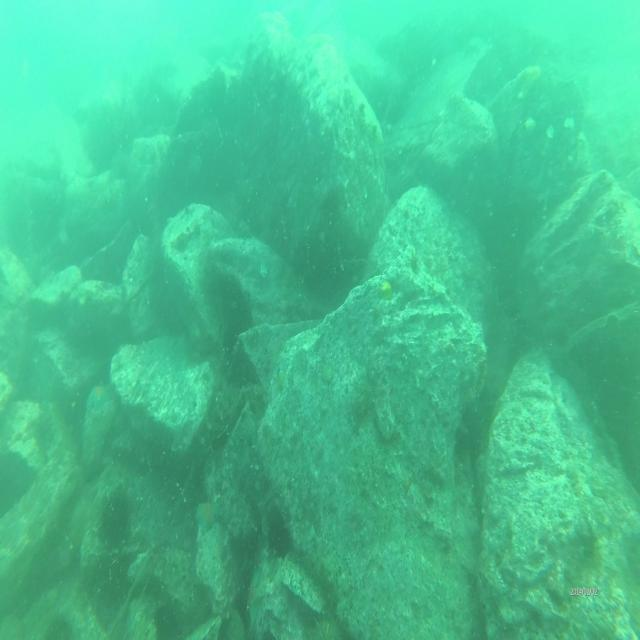echinus: (96, 484, 136, 551), (27, 410, 57, 458), (308, 613, 347, 640), (41, 615, 76, 640)
starfish: (195, 498, 221, 537), (85, 378, 115, 411)
